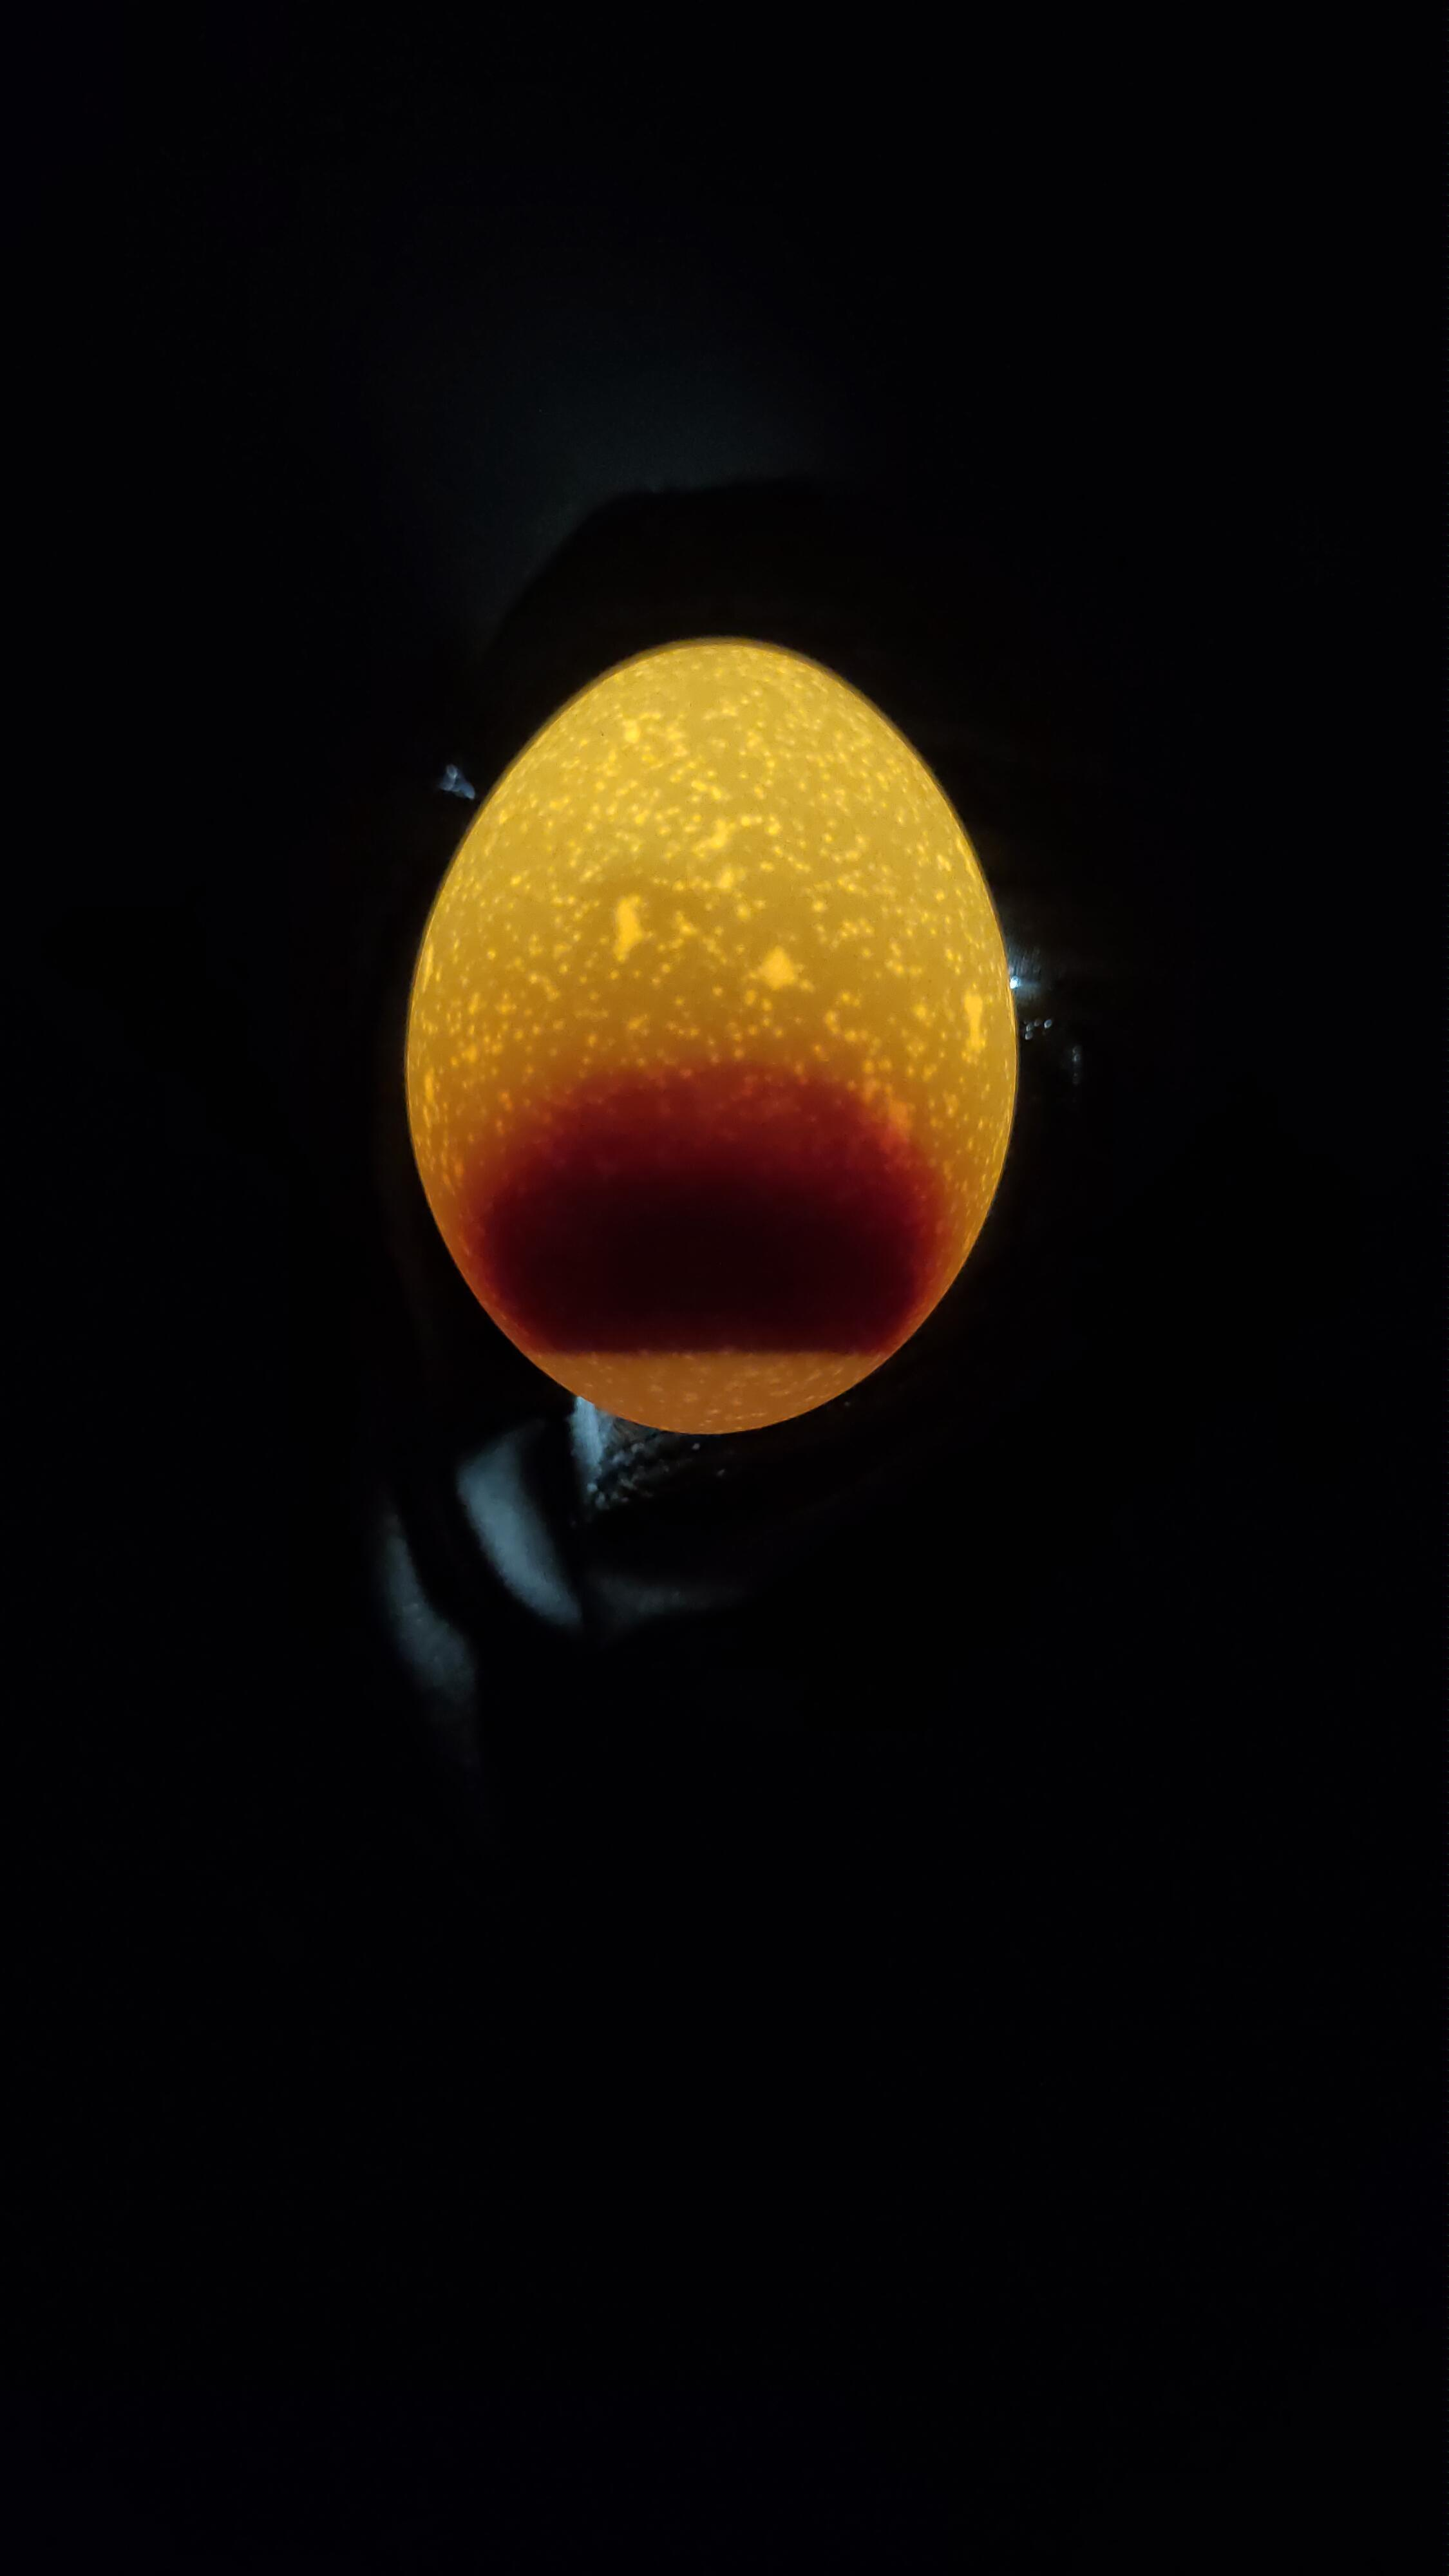AA - Premium: (373, 602, 1069, 1472)
